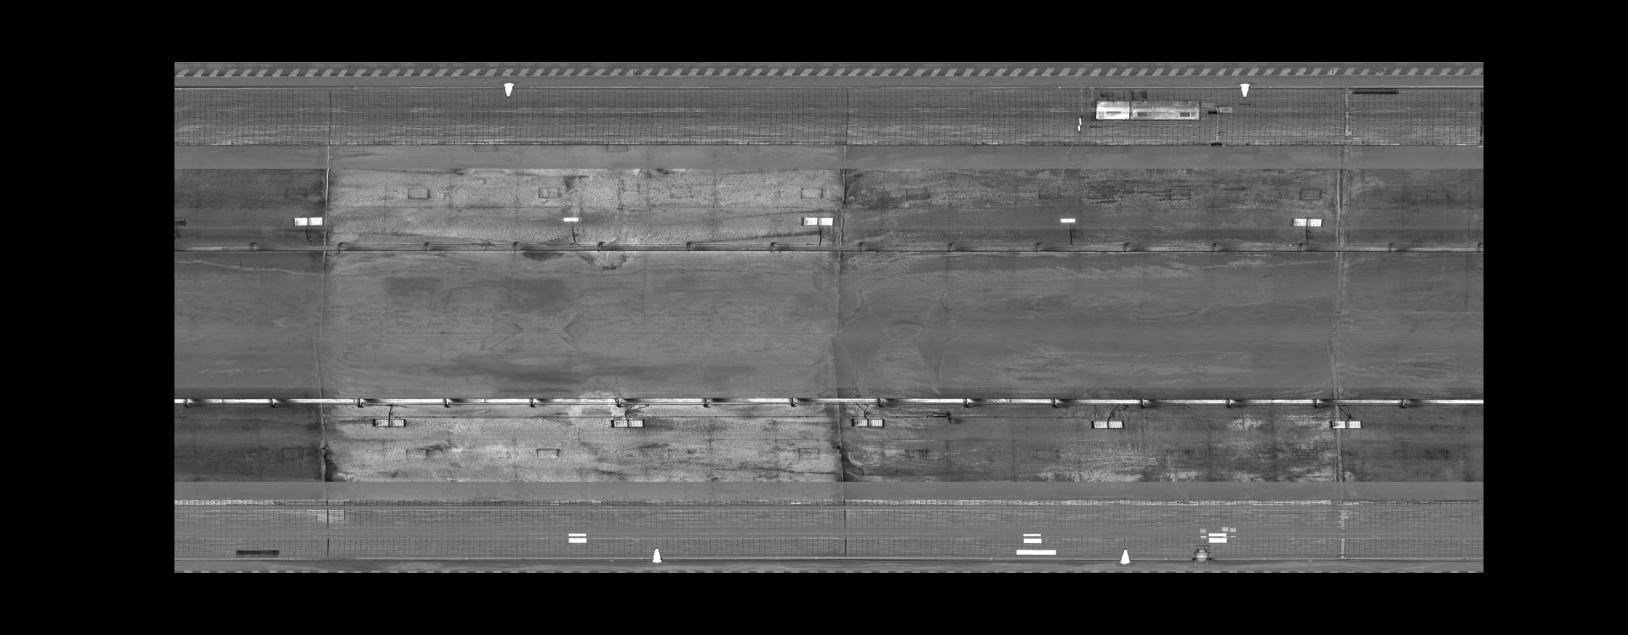light: (605, 416, 646, 432), (368, 415, 409, 430), (846, 415, 887, 430), (1087, 417, 1128, 432), (1287, 215, 1325, 229), (1326, 417, 1365, 431), (288, 213, 324, 227), (801, 214, 836, 227), (558, 215, 584, 223), (1055, 216, 1081, 224)
